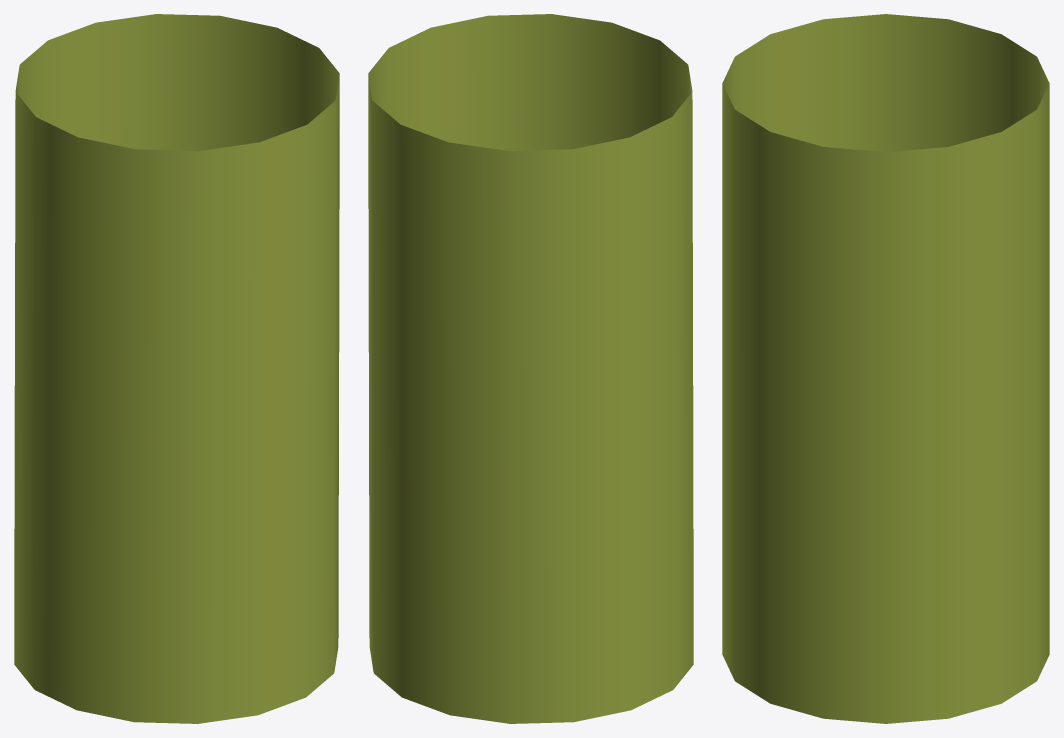
The model's file is Sci_Interior_columCyl_01.fbx.
3 views of the same model, side by side, from view 1: azimuth 30°, elevation 25°; view 2: azimuth 150°, elevation 25°; view 3: azimuth 270°, elevation 25° (orthographic).
Visible parts, largest first — view 1: Sci_Interior_columCyl_01; view 2: Sci_Interior_columCyl_01; view 3: Sci_Interior_columCyl_01.
Part boxes in pixels (<box>): Sci_Interior_columCyl_01: <box>14,14,339,723</box>; Sci_Interior_columCyl_01: <box>368,14,693,723</box>; Sci_Interior_columCyl_01: <box>722,14,1049,723</box>.
Bounding box in the file's own units: 20.48 × 39.37 × 20.38.
